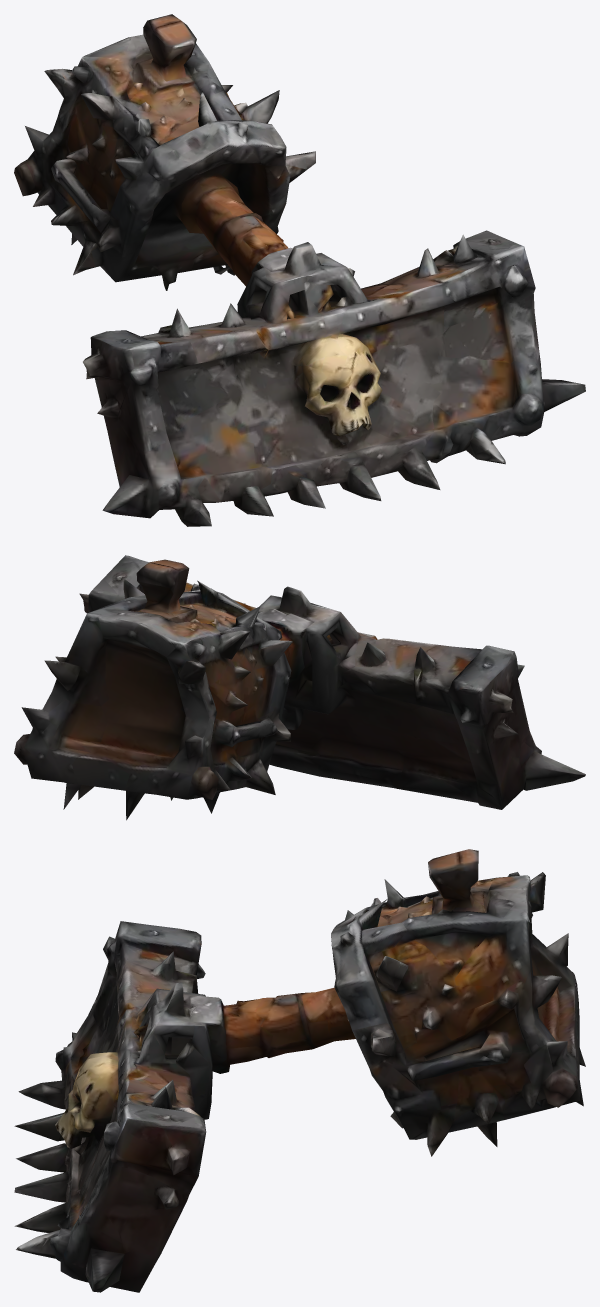
File: tkram.glb
3 renders of one model, top to bottom at view 1: azimuth 30°, elevation 25°; view 2: azimuth 150°, elevation 25°; view 3: azimuth 270°, elevation 25°, orthographic. The views are drawn at different scales.
Parts seen in each view (by area): view 1: tripo_node_69c22243-e802-4542-aba4-b046db182c7d; view 2: tripo_node_69c22243-e802-4542-aba4-b046db182c7d; view 3: tripo_node_69c22243-e802-4542-aba4-b046db182c7d.
Part boxes in pixels (x1,y1,x2,y2): tripo_node_69c22243-e802-4542-aba4-b046db182c7d: [14, 14, 585, 526]; tripo_node_69c22243-e802-4542-aba4-b046db182c7d: [14, 555, 585, 820]; tripo_node_69c22243-e802-4542-aba4-b046db182c7d: [14, 849, 585, 1292].
Bounding box in the file's own units: 0.9974 × 0.6512 × 0.9608.
1 material, 1 textured.
